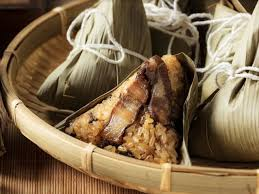zongzi: (58, 54, 196, 164), (37, 0, 151, 108), (189, 1, 258, 161)
